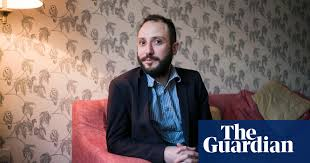middle_eastern_male: (134, 16, 170, 68)
